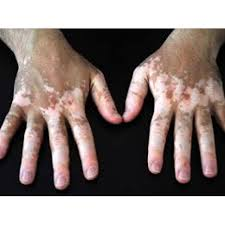vitiligo: (1, 59, 114, 180), (124, 58, 224, 182)
